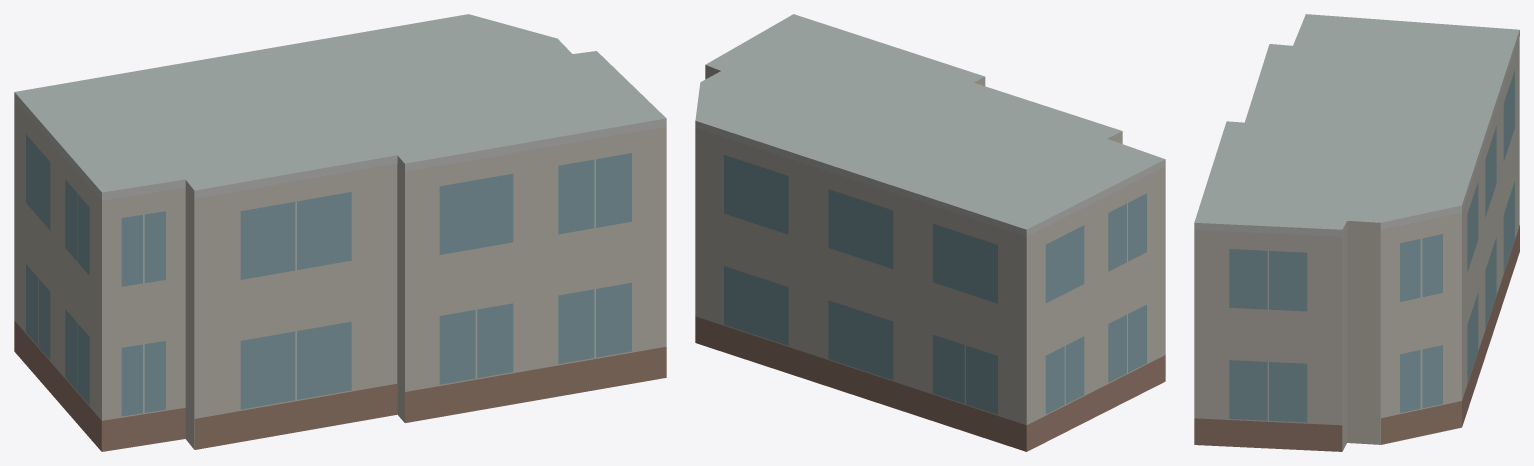
Rendered from survey-upis-32705399.glb.
3 renders of one model, left to right at view 1: azimuth 30°, elevation 25°; view 2: azimuth 150°, elevation 25°; view 3: azimuth 270°, elevation 25°, orthographic. The views are drawn at different scales.
Parts seen in each view (by area): view 1: survey-upis-32705399.tmp; view 2: survey-upis-32705399.tmp; view 3: survey-upis-32705399.tmp.
Boxes of the visible parts, x1,y1,x2,y2 form: survey-upis-32705399.tmp: (14, 14, 666, 451); survey-upis-32705399.tmp: (695, 14, 1165, 451); survey-upis-32705399.tmp: (1194, 14, 1519, 451).
Size of the model in its own units: 16.15 by 7.75 by 10.3.
